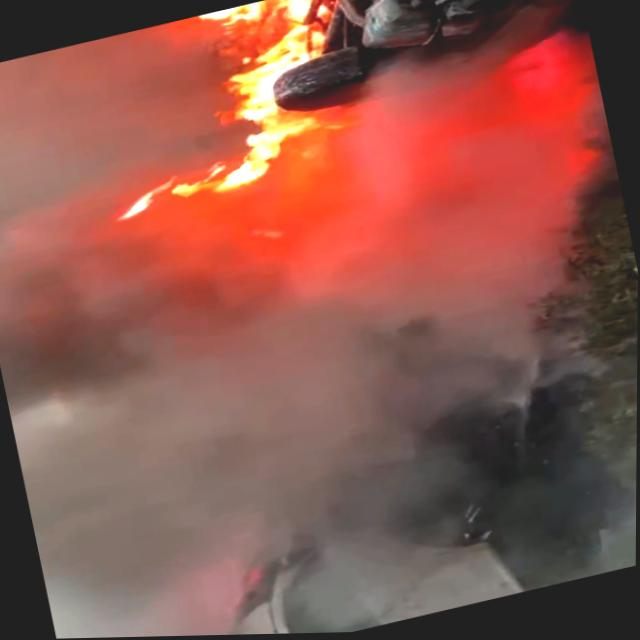fire: (97, 103, 310, 237), (201, 19, 346, 126), (169, 0, 329, 36)
smoke: (2, 254, 609, 640), (206, 41, 637, 353), (0, 178, 264, 429), (0, 26, 179, 212)
